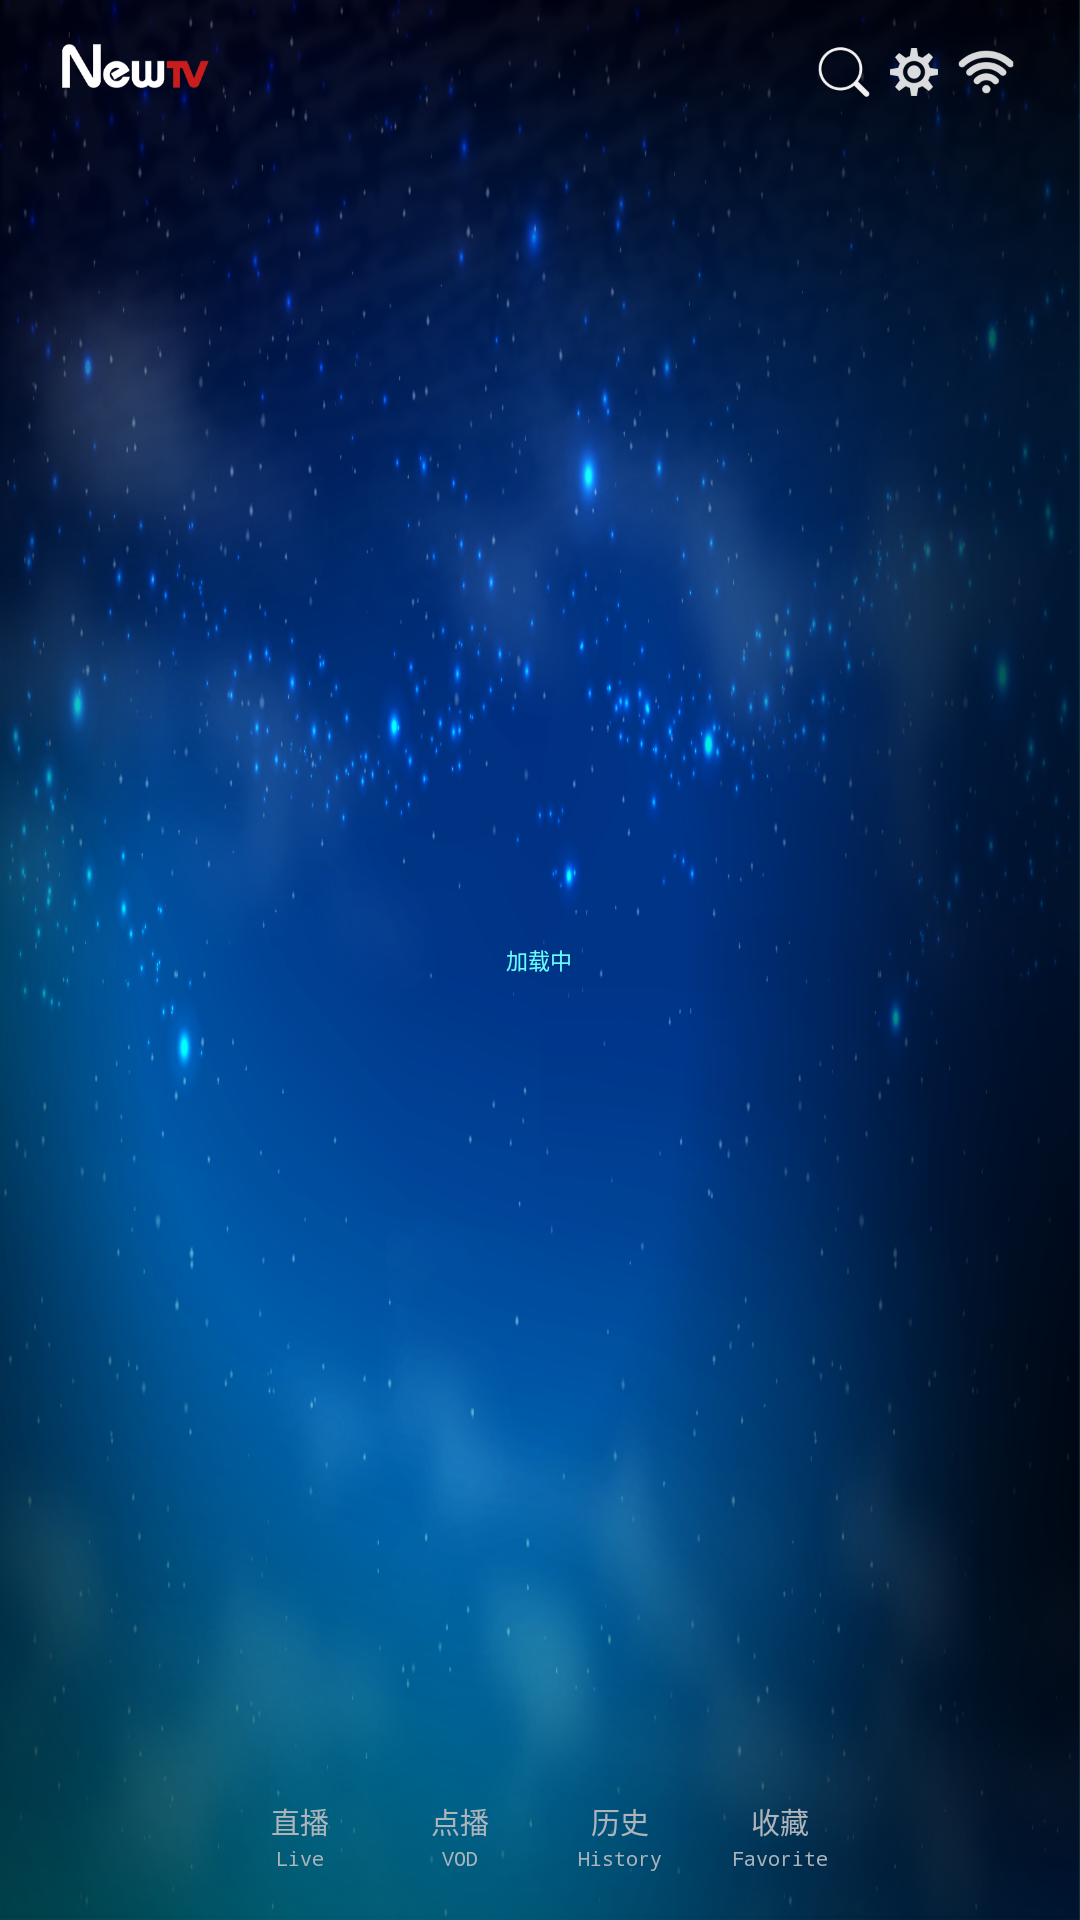

Icons on this 1080x1920 Android screen, each with its box as bbox(x1, y1, x2, y2):
search: bbox(818, 47, 870, 97)
setting: bbox(890, 48, 938, 97)
wifi: bbox(958, 50, 1014, 100)
